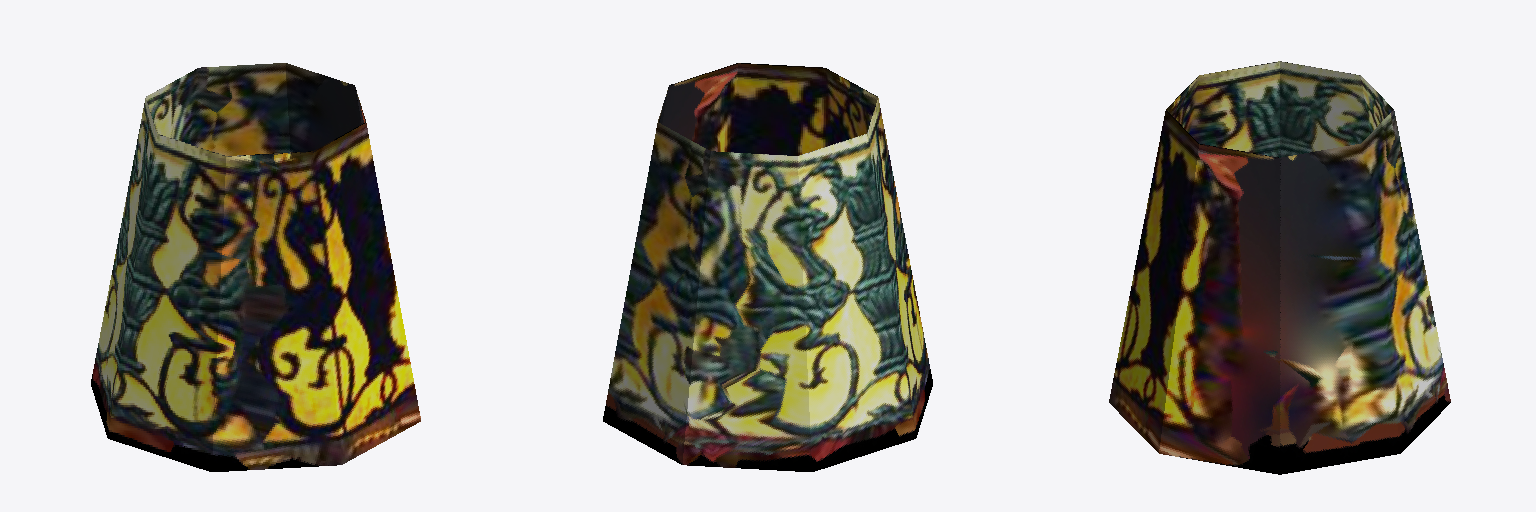
3 renders of one model, left to right at view 1: azimuth 30°, elevation 25°; view 2: azimuth 150°, elevation 25°; view 3: azimuth 270°, elevation 25°, orthographic.
Visible parts, largest first — view 1: polySurface7_group9_Ramp_Kitchen_GEO_GRP1; view 2: polySurface7_group9_Ramp_Kitchen_GEO_GRP1; view 3: polySurface7_group9_Ramp_Kitchen_GEO_GRP1.
Boxes of the visible parts, <box> form: polySurface7_group9_Ramp_Kitchen_GEO_GRP1: <box>91,63,420,471</box>; polySurface7_group9_Ramp_Kitchen_GEO_GRP1: <box>603,63,932,471</box>; polySurface7_group9_Ramp_Kitchen_GEO_GRP1: <box>1109,61,1450,474</box>.
Bounding box in the file's own units: 0.7155 × 0.6758 × 0.7155.
1 materials, 1 textured.